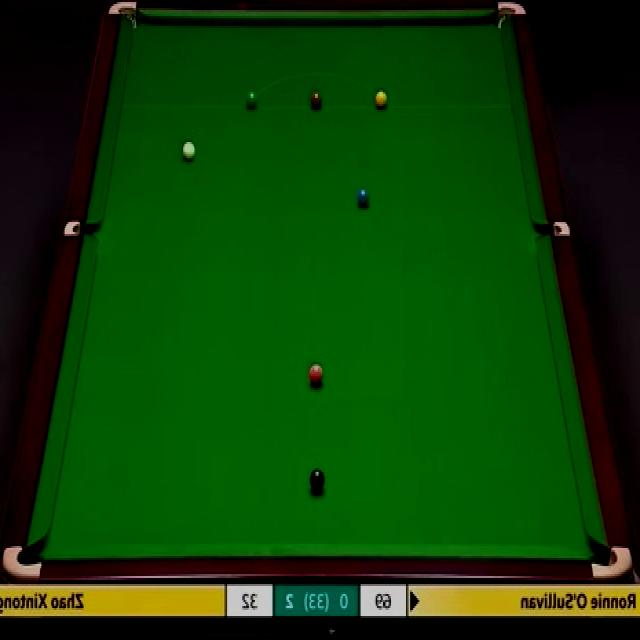black-ball: (309, 467, 326, 493)
blue-ball: (357, 187, 370, 208)
brown-ball: (309, 88, 324, 110)
green-ball: (245, 90, 260, 110)
pink-ball: (309, 363, 325, 386)
white-ball: (182, 140, 196, 162)
yellow-ball: (375, 88, 388, 109)
